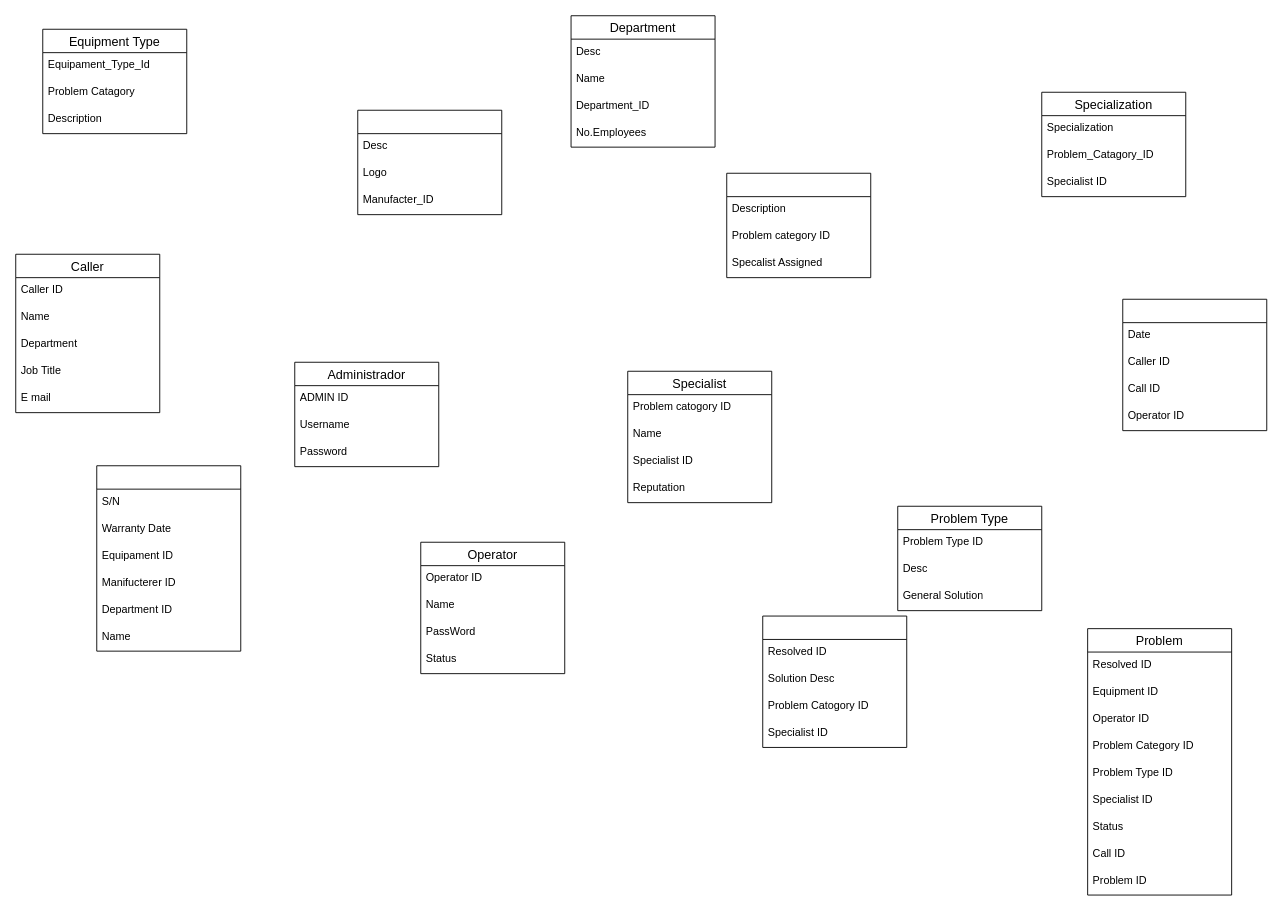
The diagram is 1283 pixels wide and 914 high, and some of its shapes have lost their labels. Each missing label, with the box of its shape:
Call_Log: (1122, 298, 1267, 431)
Equipment: (96, 465, 241, 651)
Manufacturer: (357, 109, 502, 215)
Problem Catogory: (726, 172, 871, 278)
Resolved Problem: (762, 615, 907, 747)
